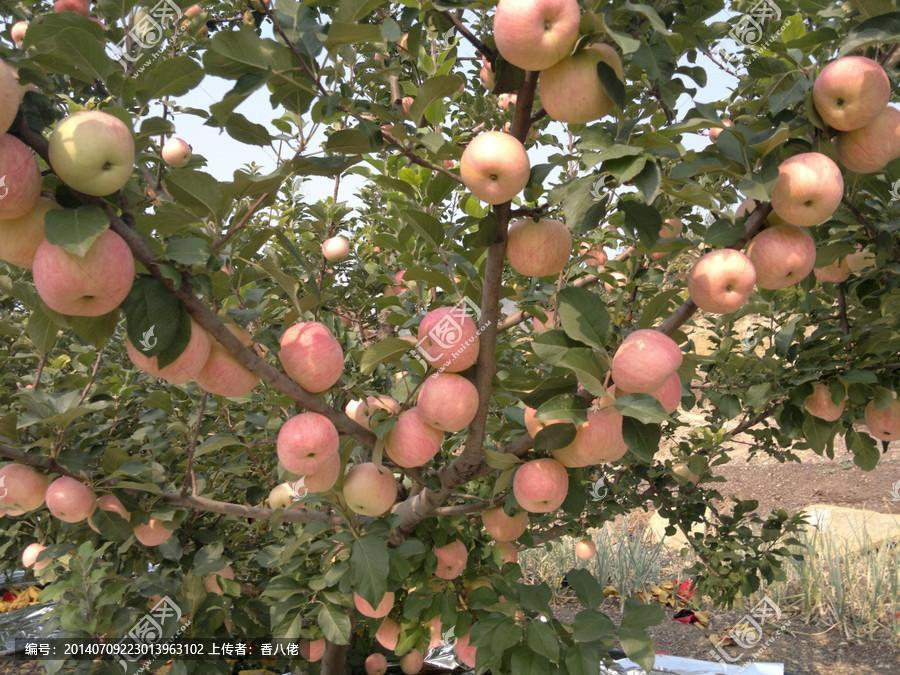apple: (34, 228, 135, 323), (535, 35, 627, 125), (44, 108, 135, 196), (809, 54, 891, 137), (493, 1, 581, 74), (768, 151, 846, 228), (459, 129, 528, 203), (611, 328, 684, 397), (744, 222, 815, 292), (276, 319, 343, 392), (274, 410, 339, 485), (685, 246, 756, 313), (506, 213, 571, 277), (420, 309, 482, 374), (510, 456, 571, 516), (419, 376, 478, 432), (338, 461, 397, 517), (389, 408, 445, 465), (43, 475, 95, 523), (480, 502, 527, 541), (160, 135, 190, 168)
